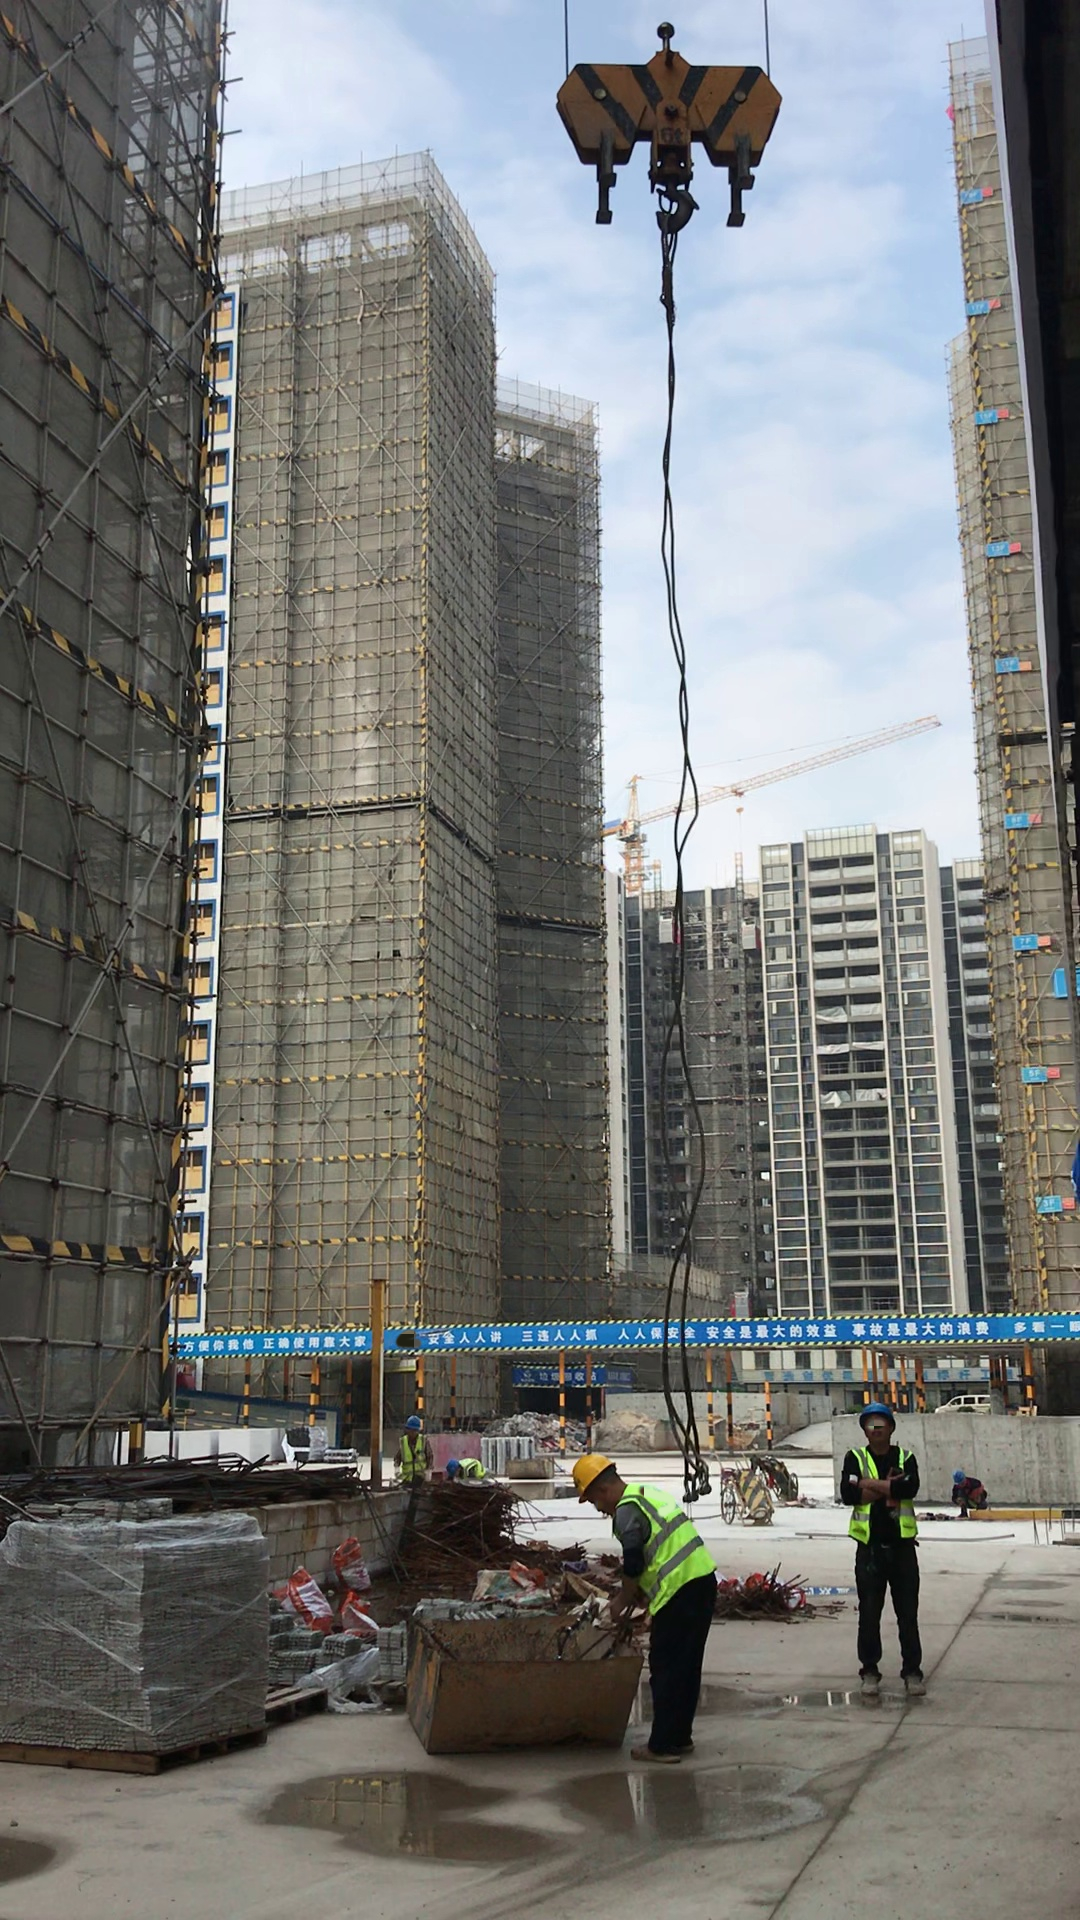helmet: (572, 1448, 620, 1505), (858, 1404, 898, 1429), (404, 1413, 423, 1429), (449, 1457, 461, 1476), (953, 1468, 968, 1482)
hook: (549, 28, 795, 253)
hopper: (407, 1603, 645, 1757)
person: (560, 1449, 721, 1767), (836, 1404, 939, 1702), (383, 1411, 437, 1486), (953, 1466, 1008, 1522), (447, 1449, 492, 1481)
slogan: (182, 1314, 1080, 1361)
vest: (610, 1492, 717, 1608), (848, 1444, 919, 1541), (399, 1435, 429, 1478), (464, 1460, 487, 1477)
